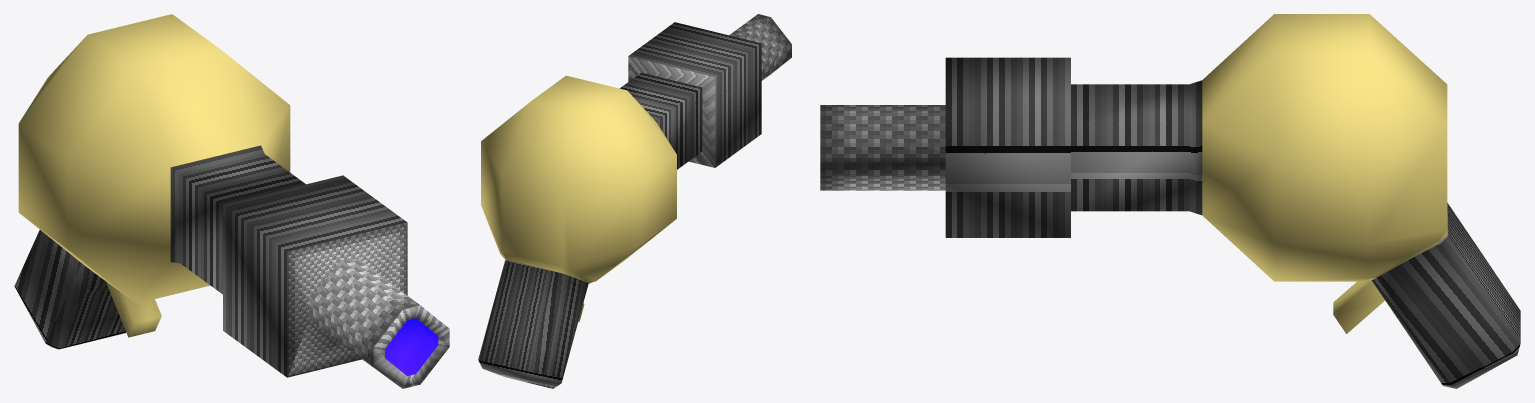
Rendered from laser gun2.fbx.
3 views of the same model, side by side, from view 1: azimuth 30°, elevation 25°; view 2: azimuth 150°, elevation 25°; view 3: azimuth 270°, elevation 25° (orthographic). The views are drawn at different scales.
Parts seen in each view (by area): view 1: Box001; view 2: Box001; view 3: Box001.
Part boxes in pixels (<box>): Box001: <box>14,14,449,388</box>; Box001: <box>478,14,791,388</box>; Box001: <box>820,14,1520,388</box>.
Size of the model in its own units: 1 by 1.49 by 2.79.
